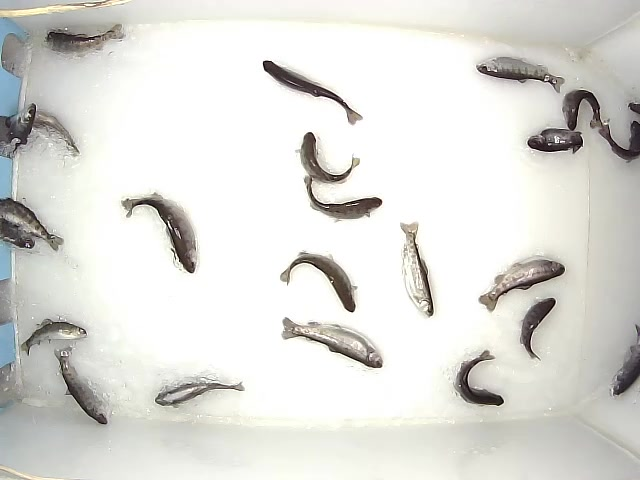fish: (263, 59, 364, 127), (122, 191, 198, 274), (280, 315, 384, 369), (279, 249, 359, 314), (477, 258, 566, 313), (53, 346, 109, 426), (303, 175, 382, 225), (398, 219, 435, 319), (294, 130, 360, 185), (475, 55, 566, 94), (452, 348, 503, 406), (42, 22, 125, 57), (19, 317, 88, 358), (154, 380, 247, 409), (518, 297, 556, 363), (599, 120, 640, 164), (562, 89, 603, 132), (526, 128, 584, 155)
